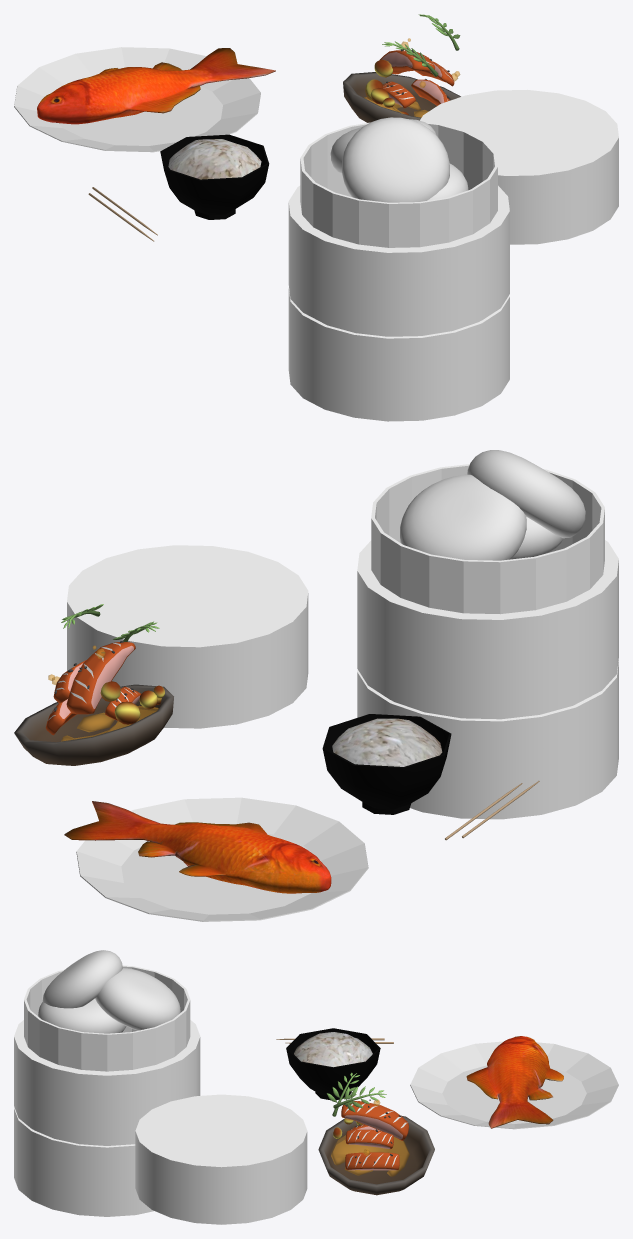
File: nianyefan.glb
The picture shows the model from 3 angles, top to bottom: view 1: azimuth 30°, elevation 25°; view 2: azimuth 150°, elevation 25°; view 3: azimuth 270°, elevation 25°; orthographic projection. The views are drawn at different scales.
Parts seen in each view (by area): view 1: contaner_container1_0, cover_container1_0, Plate_0, Object_2, Sphere.002, Mesh_0.001, Mesh_2.001, Cylinder.018_FryingPan_0, Cylinder.018_Salmon_Base_0, Cylinder.018_Potato_0, Cylinder.018_Salmon_Tender_0, Cylinder.018_Herbs_0 (+2 smaller); view 2: contaner_container1_0, cover_container1_0, Plate_0, Object_2, Sphere.001, Cylinder.018_FryingPan_0, Mesh_0.001, Sphere.002, Mesh_2.001, Cylinder.018_Salmon_Base_0, Cylinder.018_Potato_0, Sphere (+2 smaller); view 3: contaner_container1_0, cover_container1_0, Plate_0, Object_2, Cylinder.018_FryingPan_0, Sphere.001, Sphere.002, Mesh_0.001, Cylinder.018_Salmon_Base_0, Mesh_2.001, Sphere, Cylinder.018_Oil_0 (+2 smaller).
Part boxes in pixels (x1,y1,x2,y2): contaner_container1_0: (288,122,509,421); cover_container1_0: (420,89,618,244); Plate_0: (14,47,260,152); Object_2: (37,48,275,124); Sphere.002: (342,117,449,202); Mesh_0.001: (160,134,269,219); Mesh_2.001: (168,139,261,179); Cylinder.018_FryingPan_0: (343,72,460,122); Cylinder.018_Salmon_Base_0: (380,50,454,108); Cylinder.018_Potato_0: (365,59,408,115); Cylinder.018_Salmon_Tender_0: (381,52,444,106); Cylinder.018_Herbs_0: (382,14,460,76); contaner_container1_0: (357,464,618,819); cover_container1_0: (67,545,308,728); Plate_0: (76,797,368,921); Object_2: (64,801,331,893); Sphere.001: (400,474,526,560); Cylinder.018_FryingPan_0: (14,684,173,765); Mesh_0.001: (322,714,451,814); Sphere.002: (467,450,585,538); Mesh_2.001: (332,718,442,766); Cylinder.018_Salmon_Base_0: (45,642,140,735); Cylinder.018_Potato_0: (100,681,164,724); Sphere: (511,517,563,559); contaner_container1_0: (14,965,200,1216); cover_container1_0: (135,1094,307,1224); Plate_0: (410,1041,618,1129); Object_2: (466,1036,563,1128); Cylinder.018_FryingPan_0: (318,1115,434,1195); Sphere.001: (95,968,180,1030); Sphere.002: (42,950,122,1008); Mesh_0.001: (286,1028,380,1100); Cylinder.018_Salmon_Base_0: (341,1101,408,1169); Mesh_2.001: (294,1032,372,1067); Sphere: (38,998,126,1033); Cylinder.018_Oil_0: (331,1099,409,1176).
Bounding box in the file's own units: 8.88 × 5.26 × 13.23.
14 materials, 5 textured.
